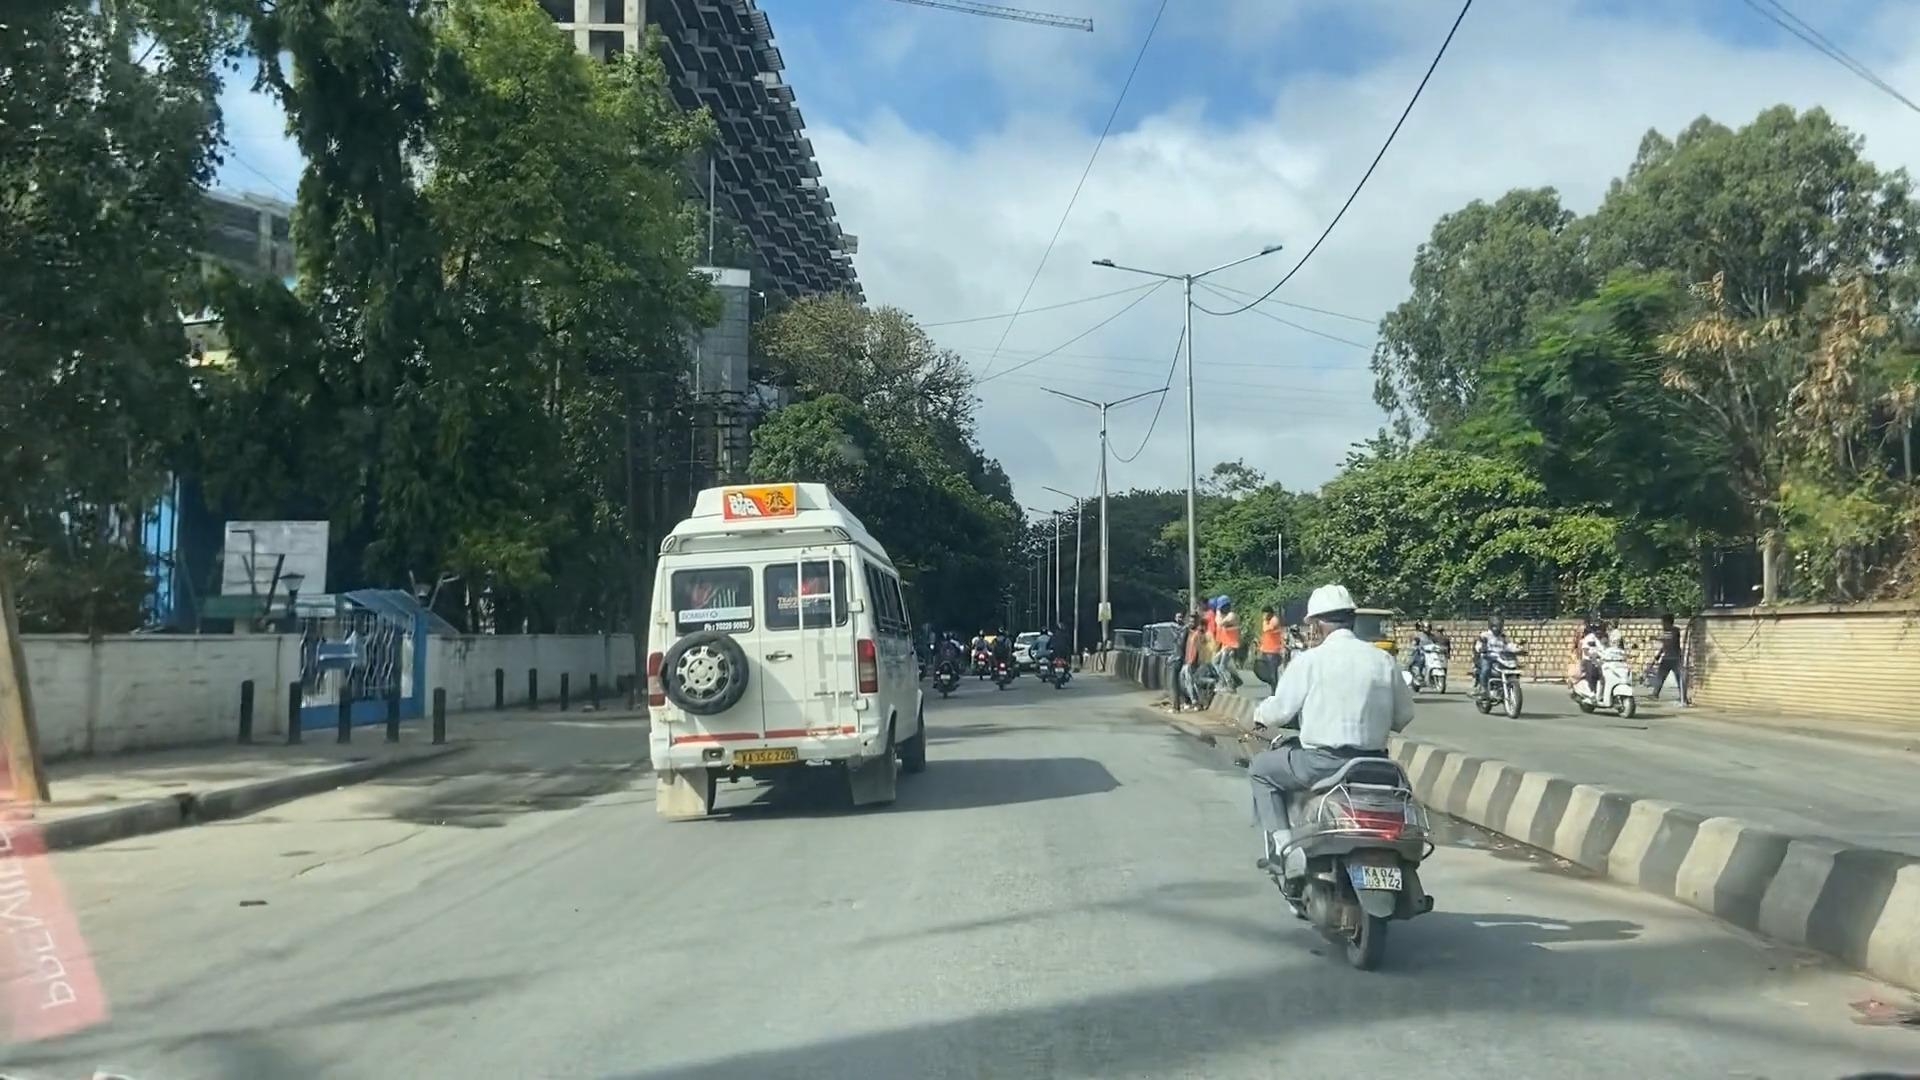HMV: (597, 488, 927, 798)
LMV: (1175, 578, 1456, 967)
